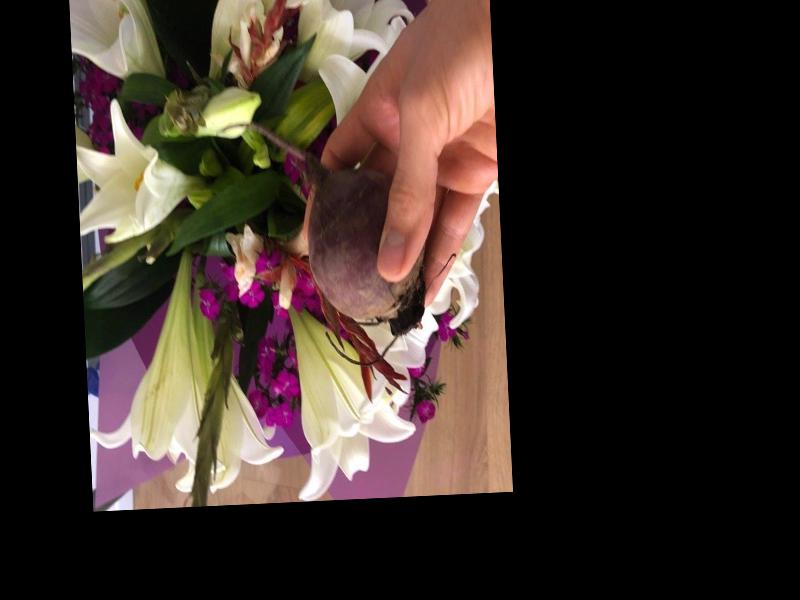Beet: (219, 113, 429, 372)
